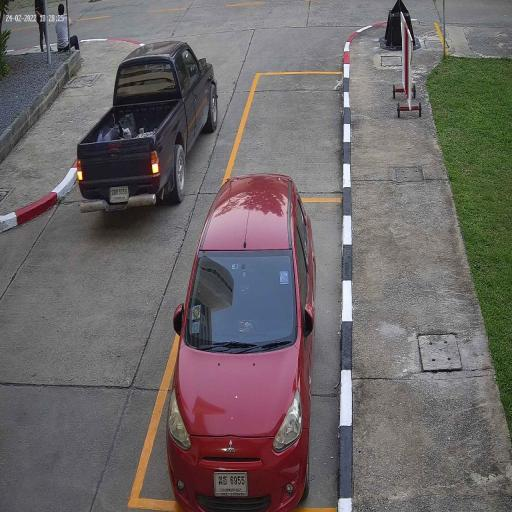car: (165, 173, 318, 512), (76, 39, 220, 213)
